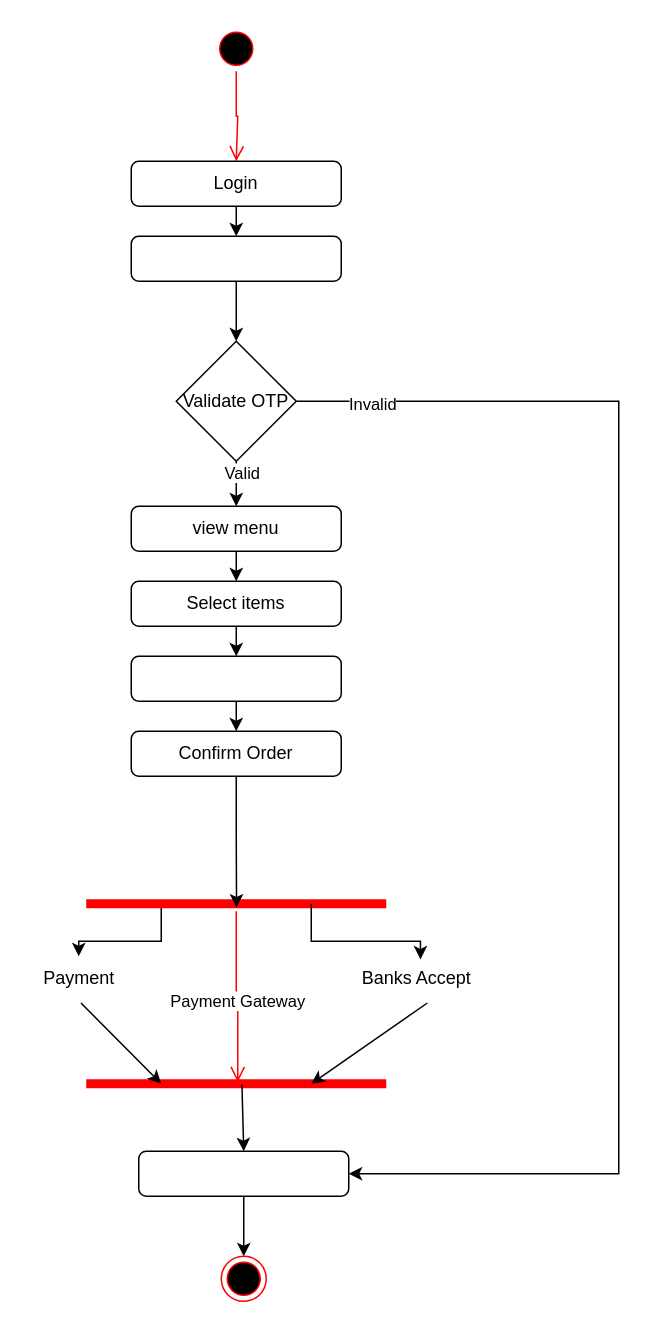
The diagram is 657 pixels wide and 1328 high, and some of its shapes have lost their labels. Here are the shapes that lost their labels. From the top down, the centre of each, then its label:
At pixel 235 258: "Enter OTP".
At pixel 235 678: "Total bill".
At pixel 243 1173: "Delivery".
